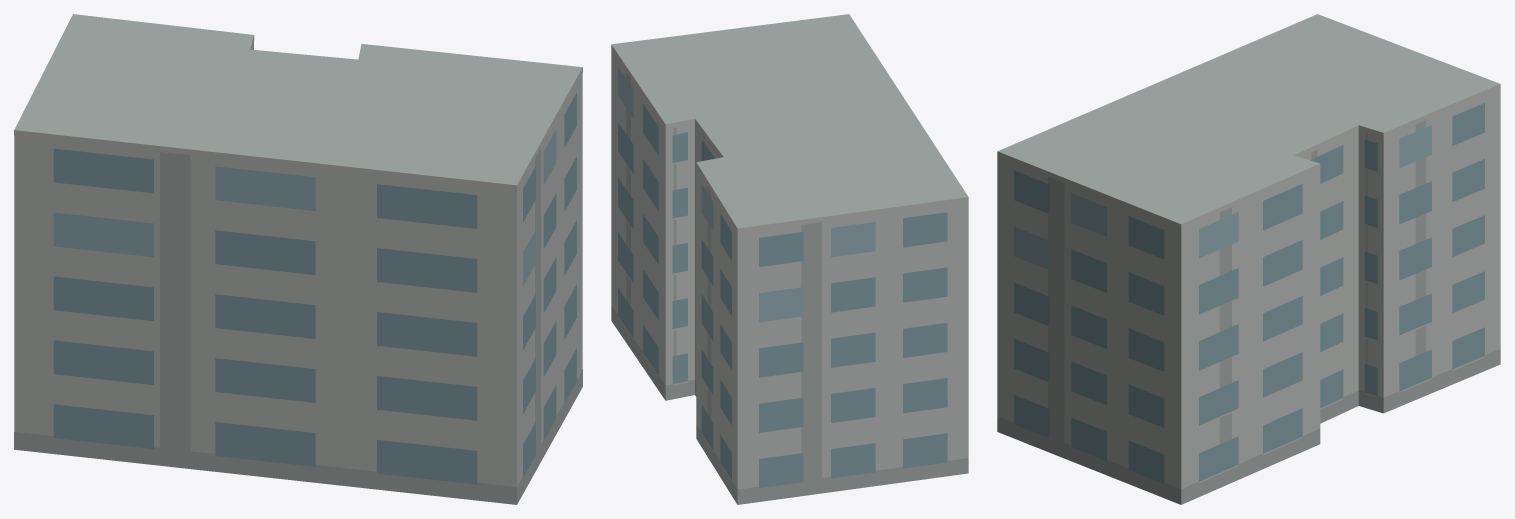
The model's file is survey-upis-32803917.glb.
The picture shows the model from 3 angles, left to right: view 1: azimuth 30°, elevation 25°; view 2: azimuth 150°, elevation 25°; view 3: azimuth 270°, elevation 25°; orthographic projection. The views are drawn at different scales.
Visible parts, largest first — view 1: survey-upis-32803917.tmp; view 2: survey-upis-32803917.tmp; view 3: survey-upis-32803917.tmp.
Part boxes in pixels (box(x1,y1,x2,y2)): survey-upis-32803917.tmp: box(14, 14, 582, 504); survey-upis-32803917.tmp: box(611, 14, 968, 504); survey-upis-32803917.tmp: box(997, 14, 1500, 504).
Bounding box in the file's own units: 21.71 × 13.5 × 21.94.
